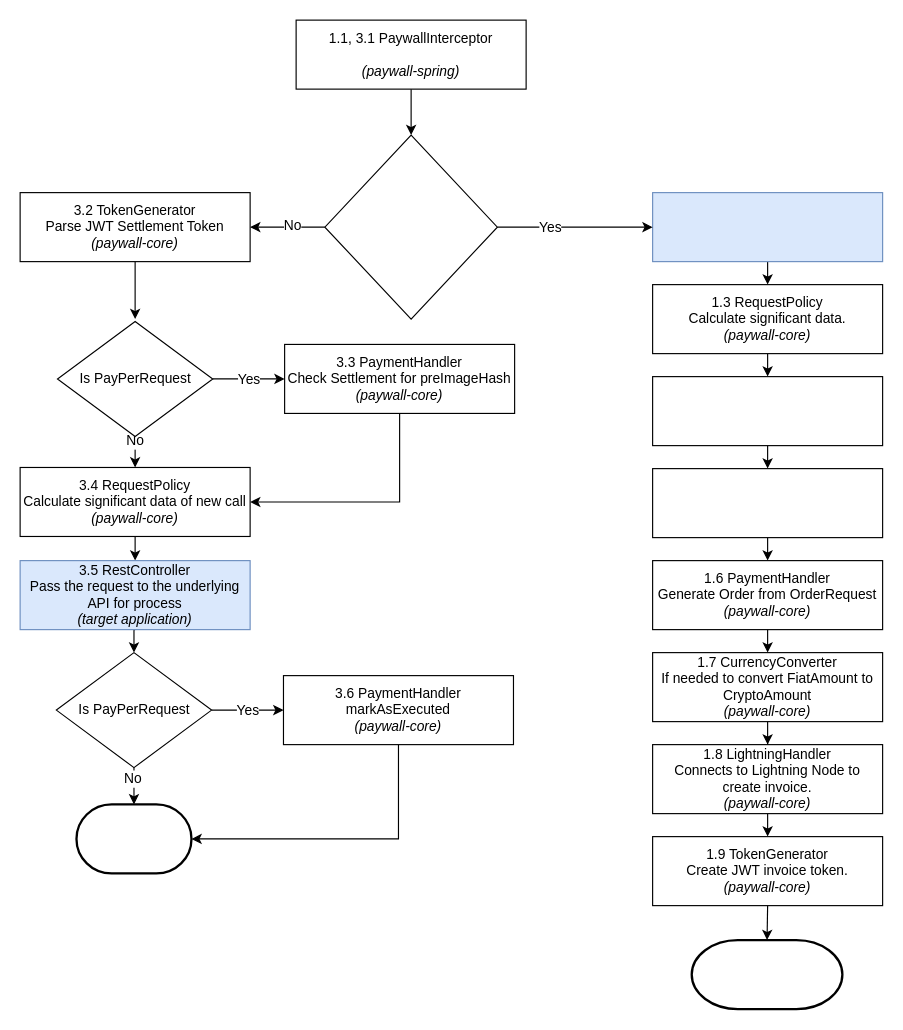
The diagram is 903 pixels wide and 1030 high, and some of its shapes have lost their labels. Here are the shapes that lost their labels. From the top down, the centre of each, then its label:
the point at 410,226: isPaymentRequired() (Check Header for valid Settlement Token)
the point at 767,226: 1.2 RestController With @PaymentRequired Annotation (target application)
the point at 767,410: 1.4 OrderRequestGenerator Generate OrderRequest (paywall-core)
the point at 767,502: 1.5 TokenGenerator Generate PreImageData (paywall-core)
the point at 133,838: Return RestController Result
the point at 766,974: Return Invoice Json Data with 402 HTTP Status
